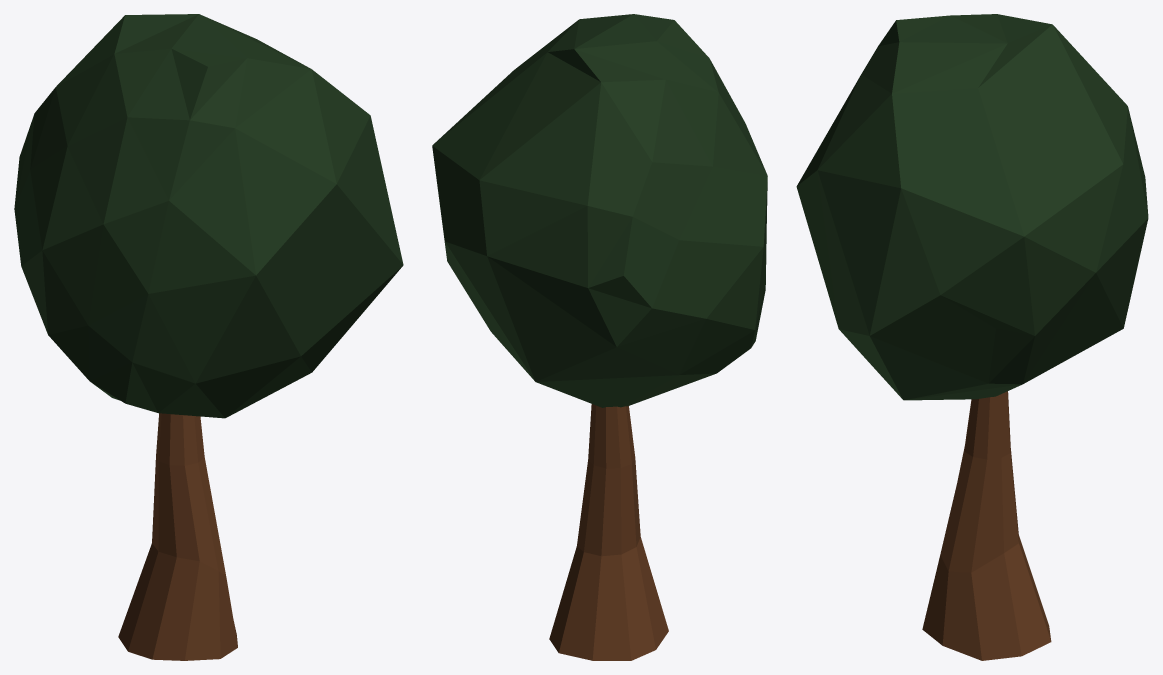
File: SM_TestTree4.fbx
3 views of the same model, side by side, from view 1: azimuth 30°, elevation 25°; view 2: azimuth 150°, elevation 25°; view 3: azimuth 270°, elevation 25° (orthographic). The views are drawn at different scales.
Parts seen in each view (by area): view 1: pPlatonic4, pCylinder2; view 2: pPlatonic4, pCylinder2; view 3: pPlatonic4, pCylinder2.
Boxes of the visible parts, x1,y1,x2,y2 form: pPlatonic4: [14, 14, 403, 418]; pCylinder2: [118, 413, 237, 660]; pPlatonic4: [432, 14, 767, 407]; pCylinder2: [549, 404, 668, 660]; pPlatonic4: [796, 14, 1148, 400]; pCylinder2: [922, 391, 1051, 660].
Bounding box in the file's own units: 6.51 × 11.95 × 6.29.
